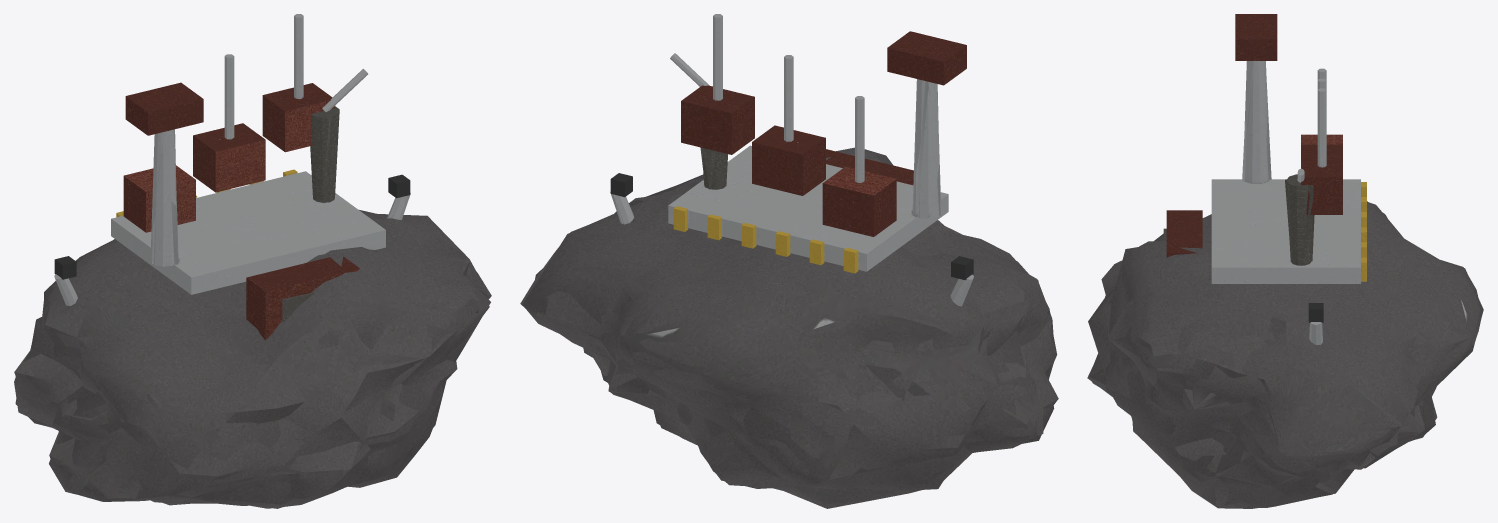
File: sd_prop_lair2.glb
The picture shows the model from 3 angles, left to right: view 1: azimuth 30°, elevation 25°; view 2: azimuth 150°, elevation 25°; view 3: azimuth 270°, elevation 25°; orthographic projection. The views are drawn at different scales.
Visible parts, largest first — view 1: LOD0_body, LOD1_body; view 2: LOD0_body, LOD1_body; view 3: LOD0_body, LOD1_body.
Part boxes in pixels (x1,y1,x2,y2): LOD0_body: (14,14,491,508); LOD1_body: (14,88,490,508); LOD0_body: (520,14,1058,503); LOD1_body: (522,81,1054,508); LOD0_body: (1089,14,1480,508); LOD1_body: (1087,61,1483,508).
Size of the model in its own units: 1 by 0.9278 by 0.8139.
1 material, 1 textured.
